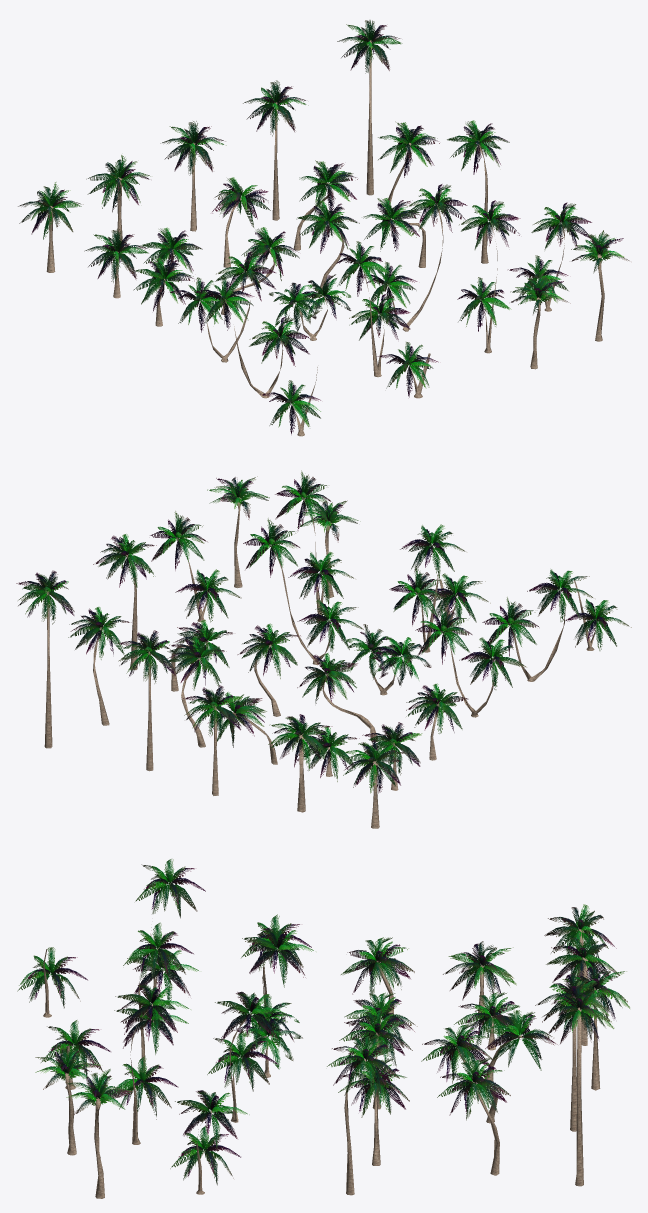
Rendered from palm_ns2_mid.glb.
The picture shows the model from 3 angles, top to bottom: view 1: azimuth 30°, elevation 25°; view 2: azimuth 150°, elevation 25°; view 3: azimuth 270°, elevation 25°; orthographic projection. The views are drawn at different scales.
Visible parts, largest first — view 1: M_Palm_P2_31; view 2: M_Palm_P2_31; view 3: M_Palm_P2_31.
Boxes of the visible parts, <box> form: M_Palm_P2_31: <box>18,20,629,436</box>; M_Palm_P2_31: <box>16,470,631,828</box>; M_Palm_P2_31: <box>17,859,629,1198</box>.
Bounding box in the file's own units: 10968 × 4342 × 12251.
3 materials, 2 textured.
